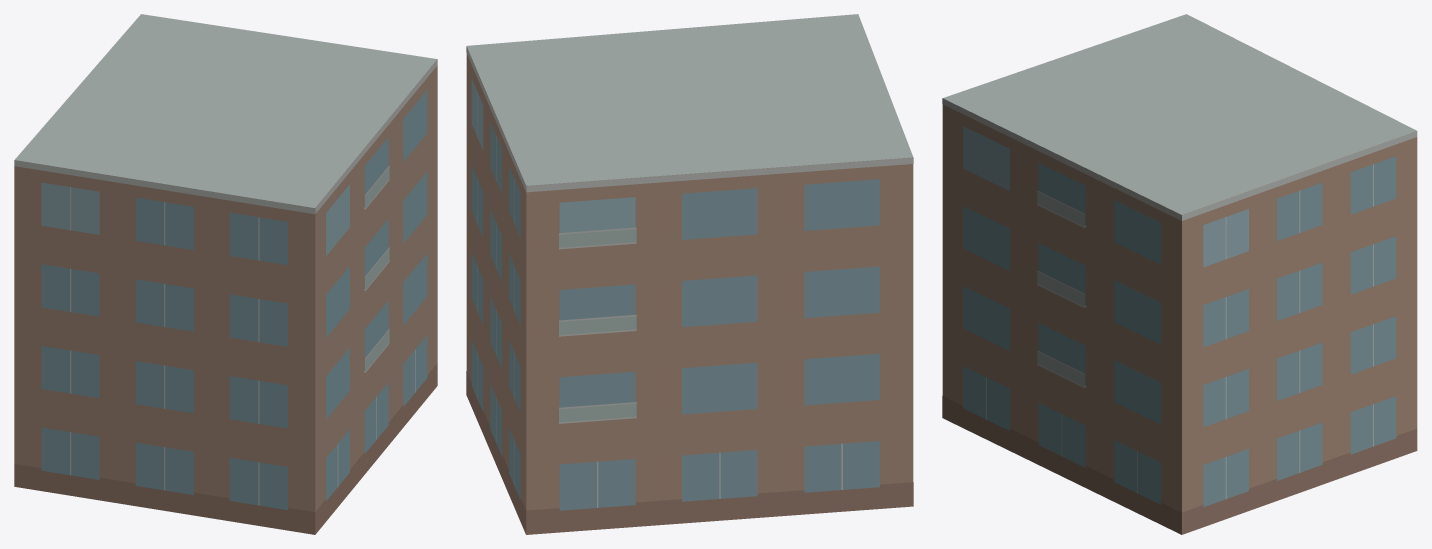
Rendered from survey-upis-32738936.glb.
3 views of the same model, side by side, from view 1: azimuth 30°, elevation 25°; view 2: azimuth 150°, elevation 25°; view 3: azimuth 270°, elevation 25° (orthographic). The views are drawn at different scales.
Visible parts, largest first — view 1: survey-upis-32738936.tmp; view 2: survey-upis-32738936.tmp; view 3: survey-upis-32738936.tmp.
Part boxes in pixels (<box>): survey-upis-32738936.tmp: <box>14,14,437,534</box>; survey-upis-32738936.tmp: <box>466,14,913,534</box>; survey-upis-32738936.tmp: <box>942,14,1417,534</box>.
Bounding box in the file's own units: 17.53 × 13 × 17.5.
